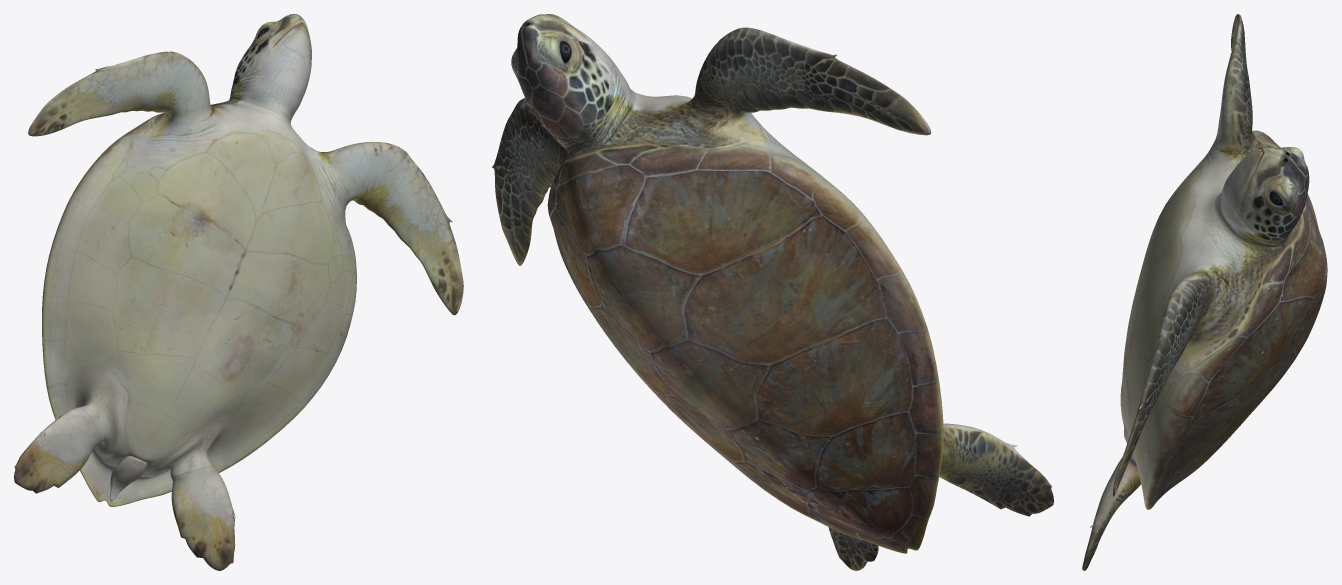
The model's file is sea_turtle.glb.
The picture shows the model from 3 angles, left to right: view 1: azimuth 30°, elevation 25°; view 2: azimuth 150°, elevation 25°; view 3: azimuth 270°, elevation 25°; orthographic projection. The views are drawn at different scales.
Parts seen in each view (by area): view 1: Object_43; view 2: Object_43; view 3: Object_43.
Part boxes in pixels (x1,y1,x2,y2): Object_43: (14,14,463,570); Object_43: (492,14,1053,570); Object_43: (1082,14,1327,570).
Size of the model in its own units: 1.24 by 1.26 by 0.5346.
3 materials, 2 textured.
